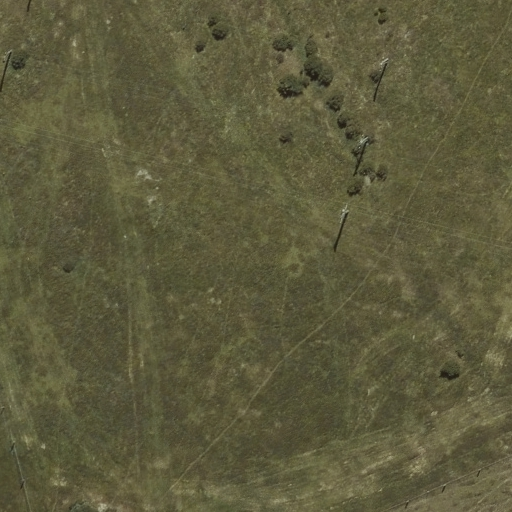DT: (351, 129, 377, 160), (371, 52, 395, 77), (336, 198, 355, 227)
